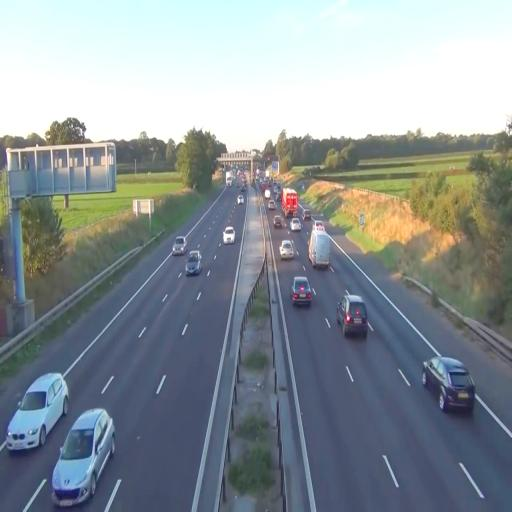vehicle: (51, 408, 115, 506), (6, 370, 68, 452), (423, 356, 475, 414), (340, 293, 369, 339), (308, 228, 332, 270), (336, 292, 358, 334), (291, 276, 313, 308), (282, 188, 298, 217), (185, 250, 201, 275), (279, 238, 295, 259), (172, 238, 188, 256), (288, 214, 302, 232), (223, 224, 235, 244)
